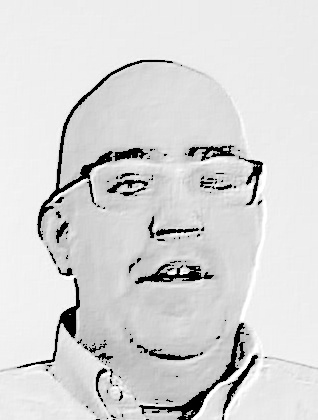nose_M_C: (146, 189, 207, 256)
